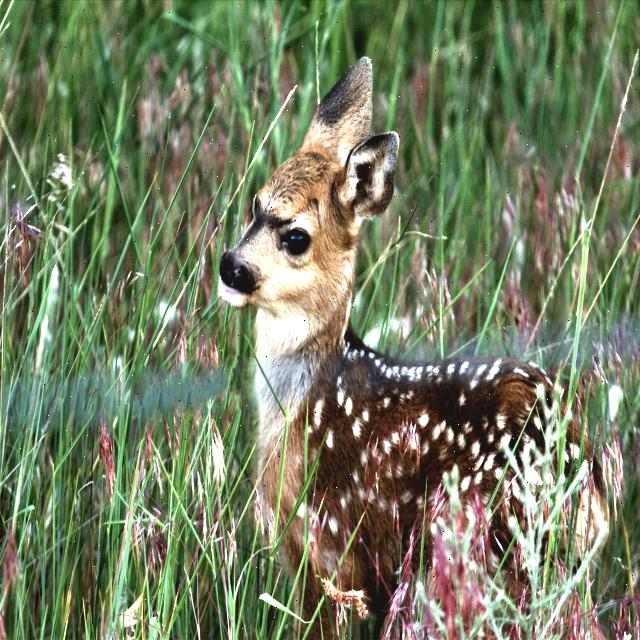deer: (215, 42, 423, 382)
